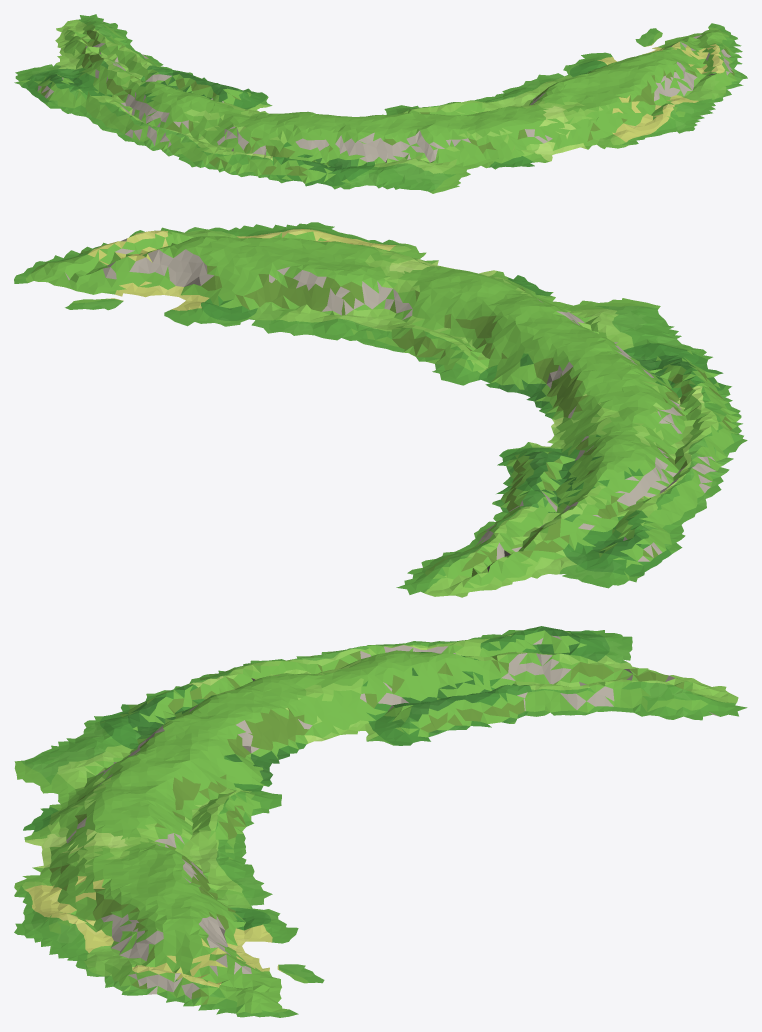
File: Isl-crescent1-Relief.fbx
3 renders of one model, top to bottom at view 1: azimuth 30°, elevation 25°; view 2: azimuth 150°, elevation 25°; view 3: azimuth 270°, elevation 25°, orthographic. The views are drawn at different scales.
Visible parts, largest first — view 1: Isl-crescent1-Relief-c11, Isl-crescent1-Relief-c21, Isl-crescent1-Relief-c10, Isl-crescent1-Relief-c20, Isl-crescent1-Relief-c12, Isl-crescent1-Relief-c01, Isl-crescent1-Relief-c02; view 2: Isl-crescent1-Relief-c11, Isl-crescent1-Relief-c21, Isl-crescent1-Relief-c12, Isl-crescent1-Relief-c01, Isl-crescent1-Relief-c02, Isl-crescent1-Relief-c10, Isl-crescent1-Relief-c20; view 3: Isl-crescent1-Relief-c11, Isl-crescent1-Relief-c21, Isl-crescent1-Relief-c12, Isl-crescent1-Relief-c20, Isl-crescent1-Relief-c10, Isl-crescent1-Relief-c01, Isl-crescent1-Relief-c02.
Part boxes in pixels (box(x1,y1,x2,y2)): Isl-crescent1-Relief-c11: box(83, 61, 551, 189); Isl-crescent1-Relief-c21: box(495, 23, 747, 127); Isl-crescent1-Relief-c10: box(366, 124, 568, 193); Isl-crescent1-Relief-c20: box(551, 99, 722, 150); Isl-crescent1-Relief-c12: box(54, 14, 165, 82); Isl-crescent1-Relief-c01: box(38, 81, 191, 164); Isl-crescent1-Relief-c02: box(14, 64, 88, 98); Isl-crescent1-Relief-c11: box(357, 265, 747, 539); Isl-crescent1-Relief-c21: box(14, 227, 433, 340); Isl-crescent1-Relief-c12: box(396, 509, 601, 597); Isl-crescent1-Relief-c01: box(603, 443, 741, 559); Isl-crescent1-Relief-c02: box(559, 535, 662, 588); Isl-crescent1-Relief-c10: box(440, 266, 681, 343); Isl-crescent1-Relief-c20: box(216, 222, 453, 268); Isl-crescent1-Relief-c11: box(75, 645, 545, 857); Isl-crescent1-Relief-c21: box(75, 832, 324, 1017); Isl-crescent1-Relief-c12: box(541, 653, 747, 720); Isl-crescent1-Relief-c20: box(14, 836, 87, 967); Isl-crescent1-Relief-c10: box(14, 734, 87, 857); Isl-crescent1-Relief-c01: box(261, 626, 544, 661); Isl-crescent1-Relief-c02: box(541, 626, 632, 663).
Bounding box in the file's own units: 105 × 4.04 × 83.47.
